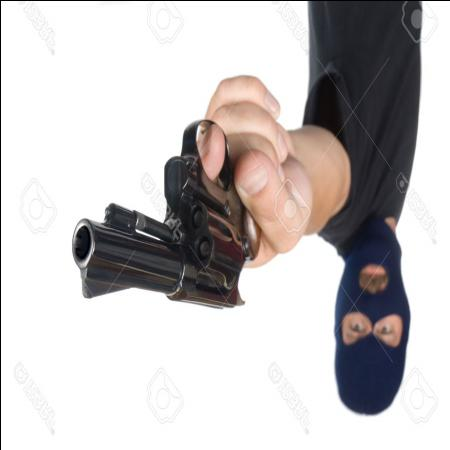Pistol: (70, 98, 264, 338)
